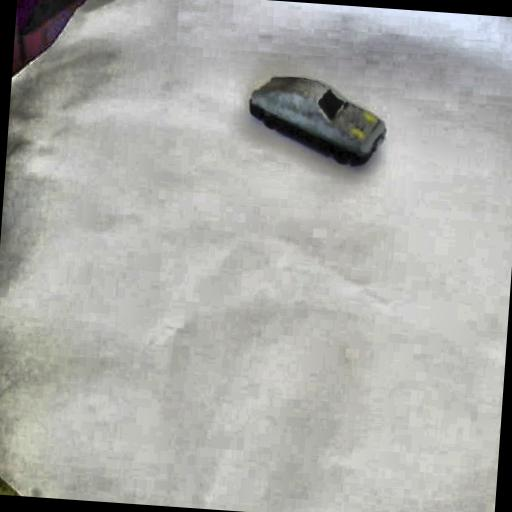normal_car: (238, 65, 388, 172)
